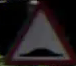Speed Breaker ahead: (11, 8, 64, 62)
